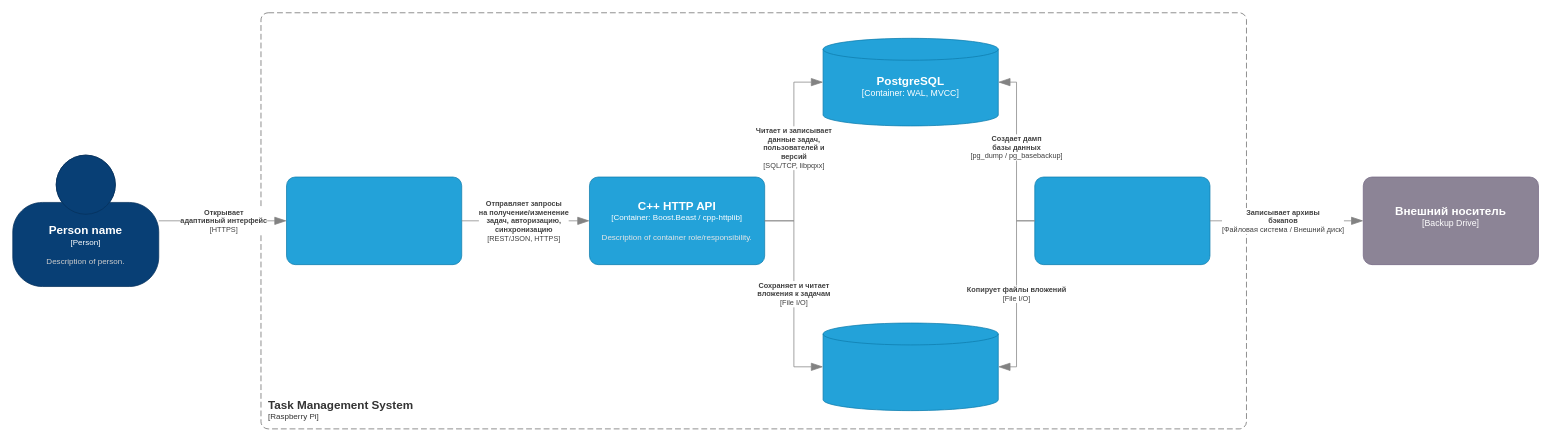
This 1551x442 diagram has some shape labels left out. Each missing label, with the centre of its shape:
Web UI [Container: HTML/CSS/JS/PWA]: point (374, 220)
Локальное хранилище вложений [Container: ]: point (910, 366)
Сервис бэкапов [Container: systemd timer / cron]: point (1122, 220)
